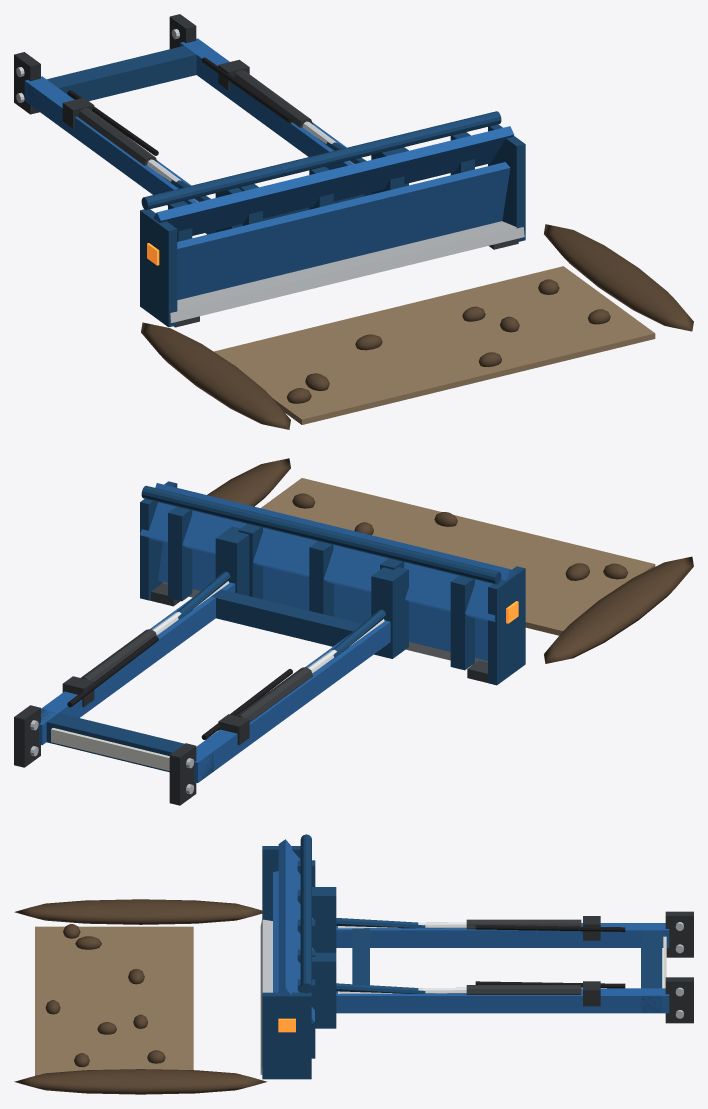
File: front_blade.glb
The picture shows the model from 3 angles, top to bottom: view 1: azimuth 30°, elevation 25°; view 2: azimuth 150°, elevation 25°; view 3: azimuth 270°, elevation 25°; orthographic projection. The views are drawn at different scales.
Parts seen in each view (by area): view 1: BladeBody, BladeProps; view 2: BladeBody, BladeProps; view 3: BladeBody, BladeProps.
Part boxes in pixels (x1,y1,x2,y2): BladeBody: (14,14,525,327); BladeProps: (141,224,693,429); BladeBody: (14,481,525,805); BladeProps: (207,458,693,663); BladeBody: (260,834,693,1079); BladeProps: (14,899,267,1094).
Size of the model in its own units: 2.54 by 0.607 by 3.86.
